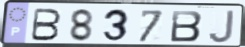3: (102, 7, 130, 43)
7: (138, 9, 165, 43)
8: (69, 8, 96, 43)
B: (28, 7, 63, 42), (169, 9, 204, 43)
J: (207, 9, 236, 44)
